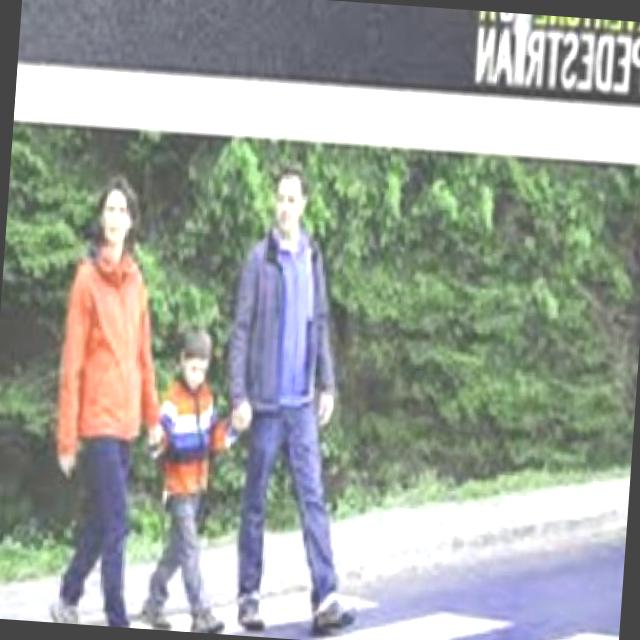Person: (217, 156, 393, 640), (32, 172, 185, 628), (143, 316, 246, 632)
